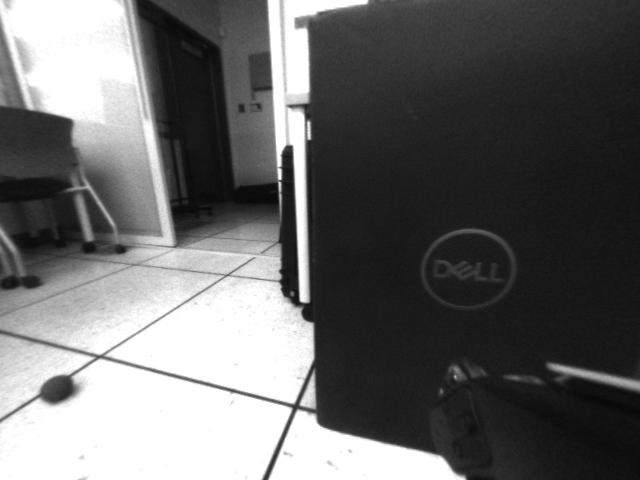dogtoy: (33, 368, 80, 405)
